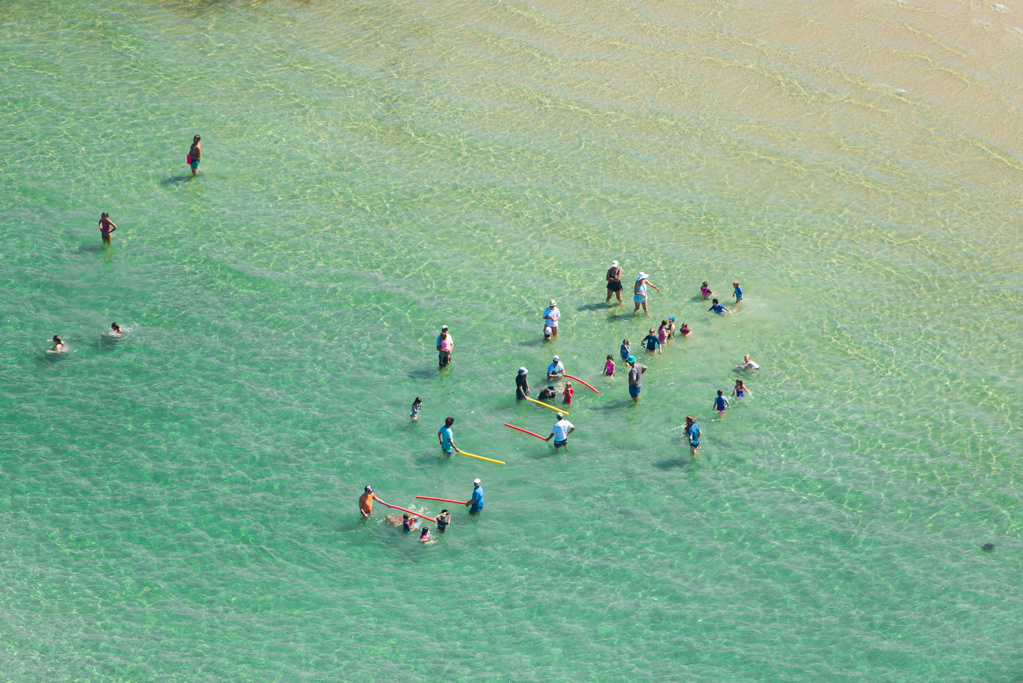people: (90, 212, 131, 256), (621, 355, 654, 406), (429, 326, 465, 372), (600, 257, 630, 306), (179, 133, 211, 178), (675, 412, 705, 460), (535, 295, 565, 343), (545, 409, 576, 455), (437, 413, 459, 467), (632, 267, 656, 315), (399, 391, 426, 432), (378, 508, 422, 531), (39, 333, 75, 360), (465, 477, 488, 518), (354, 483, 378, 519), (641, 324, 663, 360), (536, 380, 563, 409), (544, 352, 567, 386), (706, 298, 737, 323), (709, 387, 731, 420), (433, 505, 456, 536), (599, 354, 621, 386), (514, 366, 533, 403), (100, 320, 139, 338), (725, 376, 754, 399), (729, 277, 749, 308), (614, 334, 632, 368), (690, 278, 719, 299), (560, 380, 580, 410), (652, 315, 670, 346), (737, 352, 763, 372), (664, 308, 679, 341), (417, 525, 434, 543), (679, 320, 692, 343)
